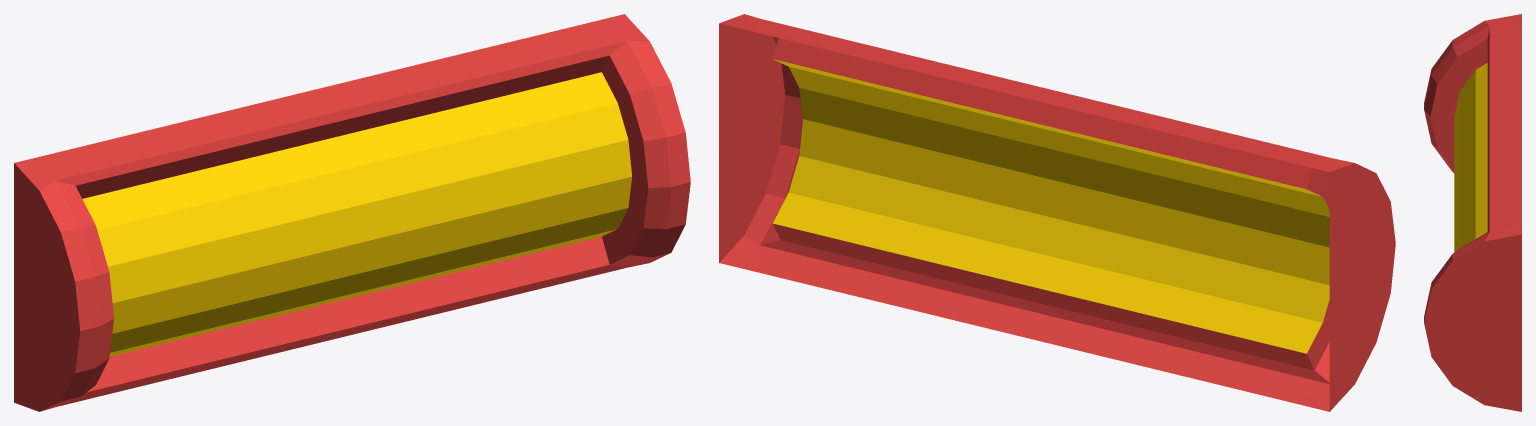
File: lightMain_1.fbx
3 renders of one model, left to right at view 1: azimuth 30°, elevation 25°; view 2: azimuth 150°, elevation 25°; view 3: azimuth 270°, elevation 25°, orthographic. The views are drawn at different scales.
Parts seen in each view (by area): view 1: lightMain_1; view 2: lightMain_1; view 3: lightMain_1.
Part boxes in pixels (x1,y1,x2,y2): lightMain_1: [14, 14, 690, 411]; lightMain_1: [719, 14, 1395, 411]; lightMain_1: [1424, 14, 1521, 411].
Bounding box in the file's own units: 160 × 60.02 × 30.
